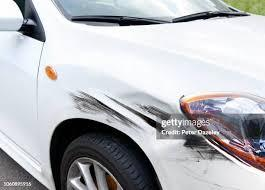scratch: (66, 78, 255, 171)
